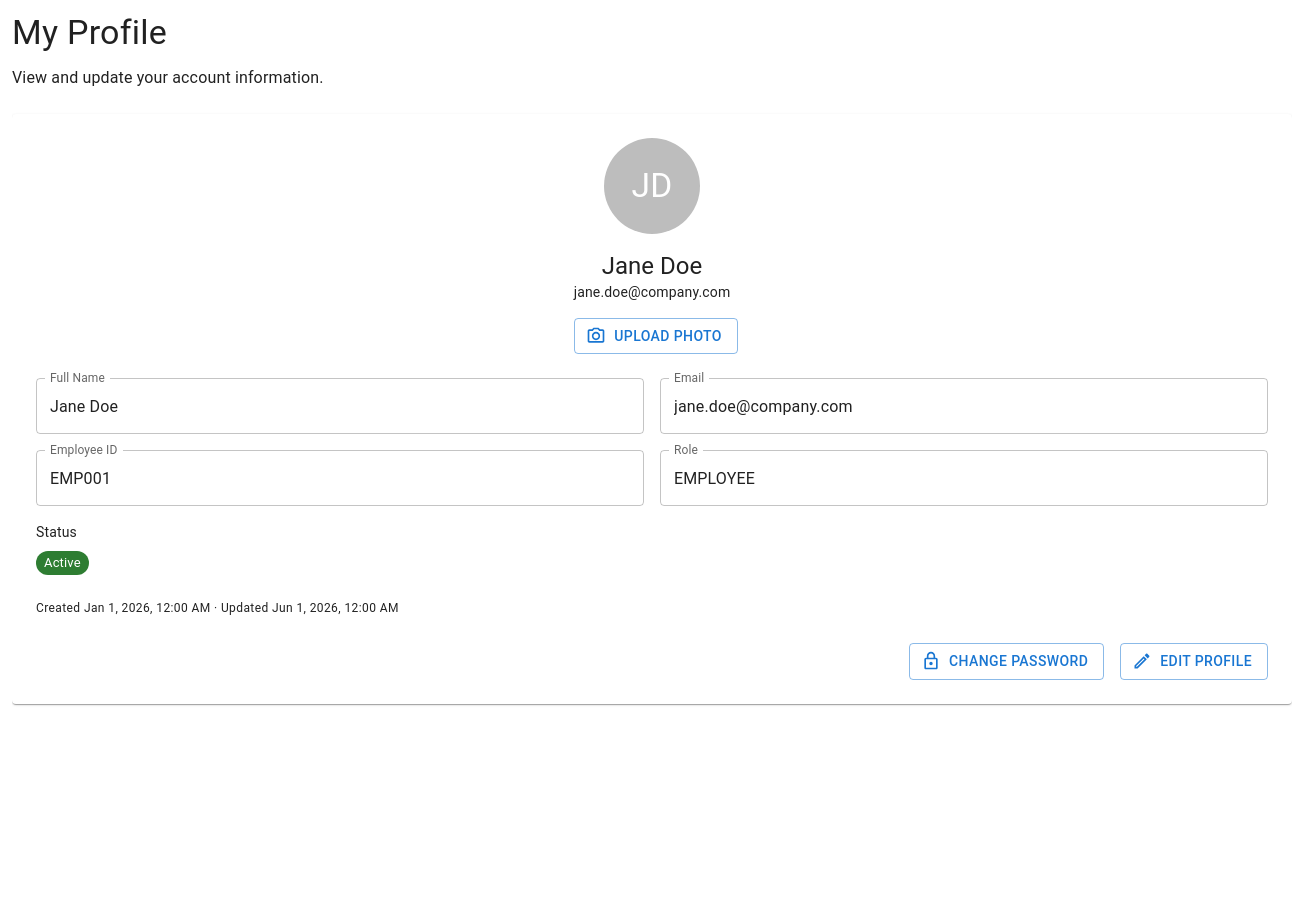
Test: ProfilePage › keeps save disabled until profile form is dirty
This screenshot has width=1292, height=912.
Click the button "Edit Profile" at [1194, 661], box [1120,643,1268,680]
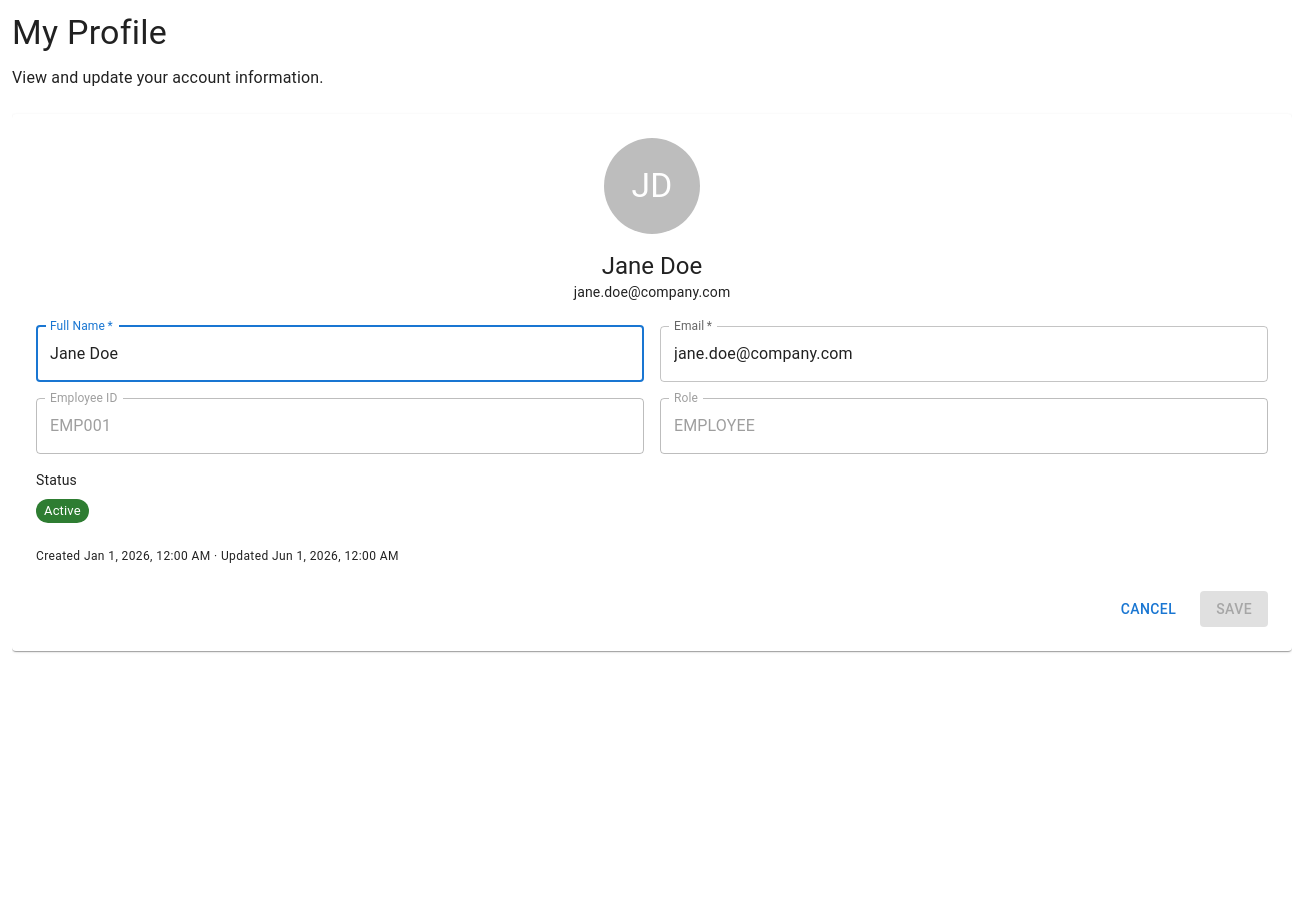
Expected: the button "Save" is disabled, [1200,591,1268,627]
Replace the text in the field labelled "Full Name" with "Jane Doe Updated" at [340, 354], box [36,326,644,382]
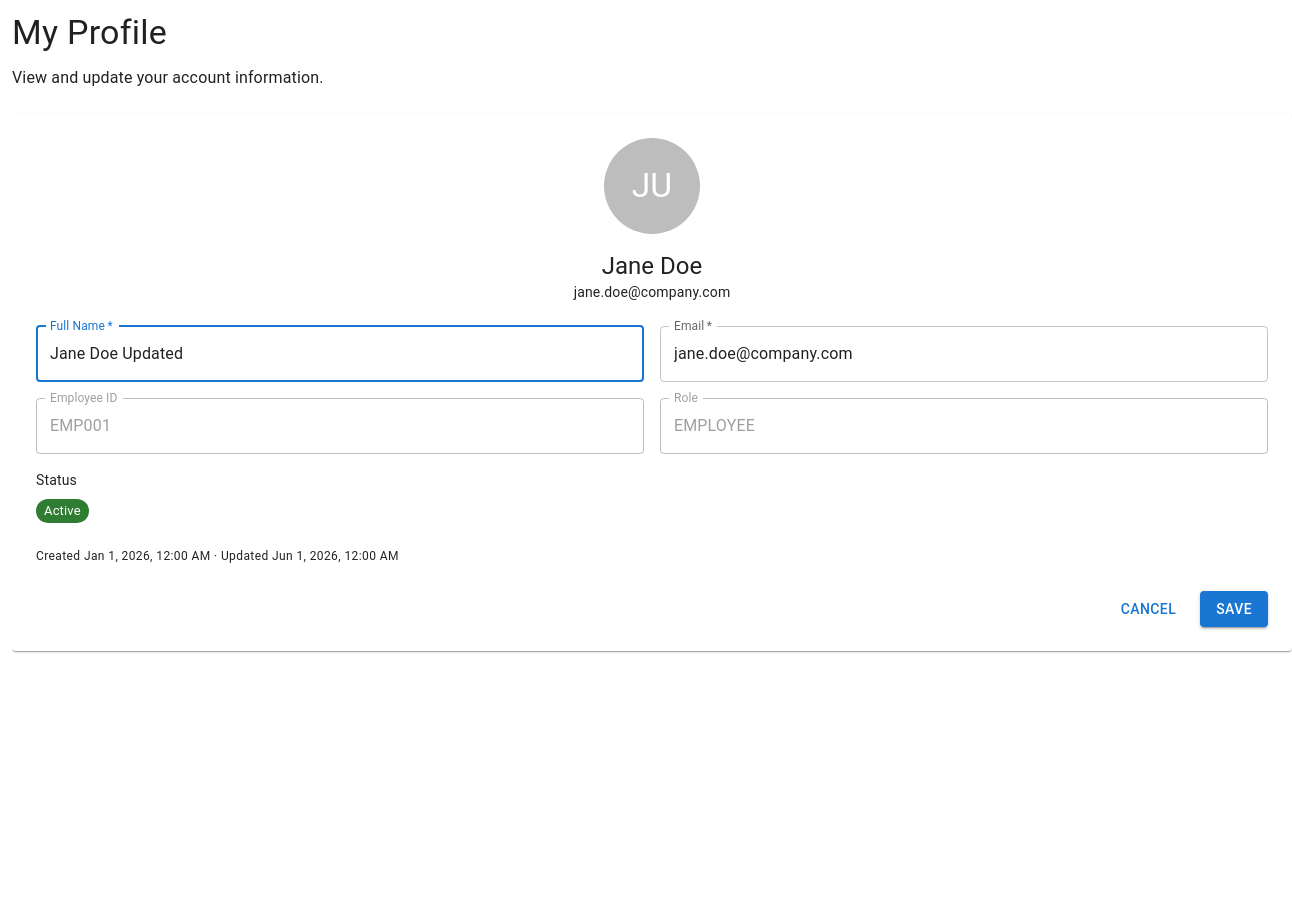
Expected: the button "Save" is enabled, [1200,591,1268,627]
